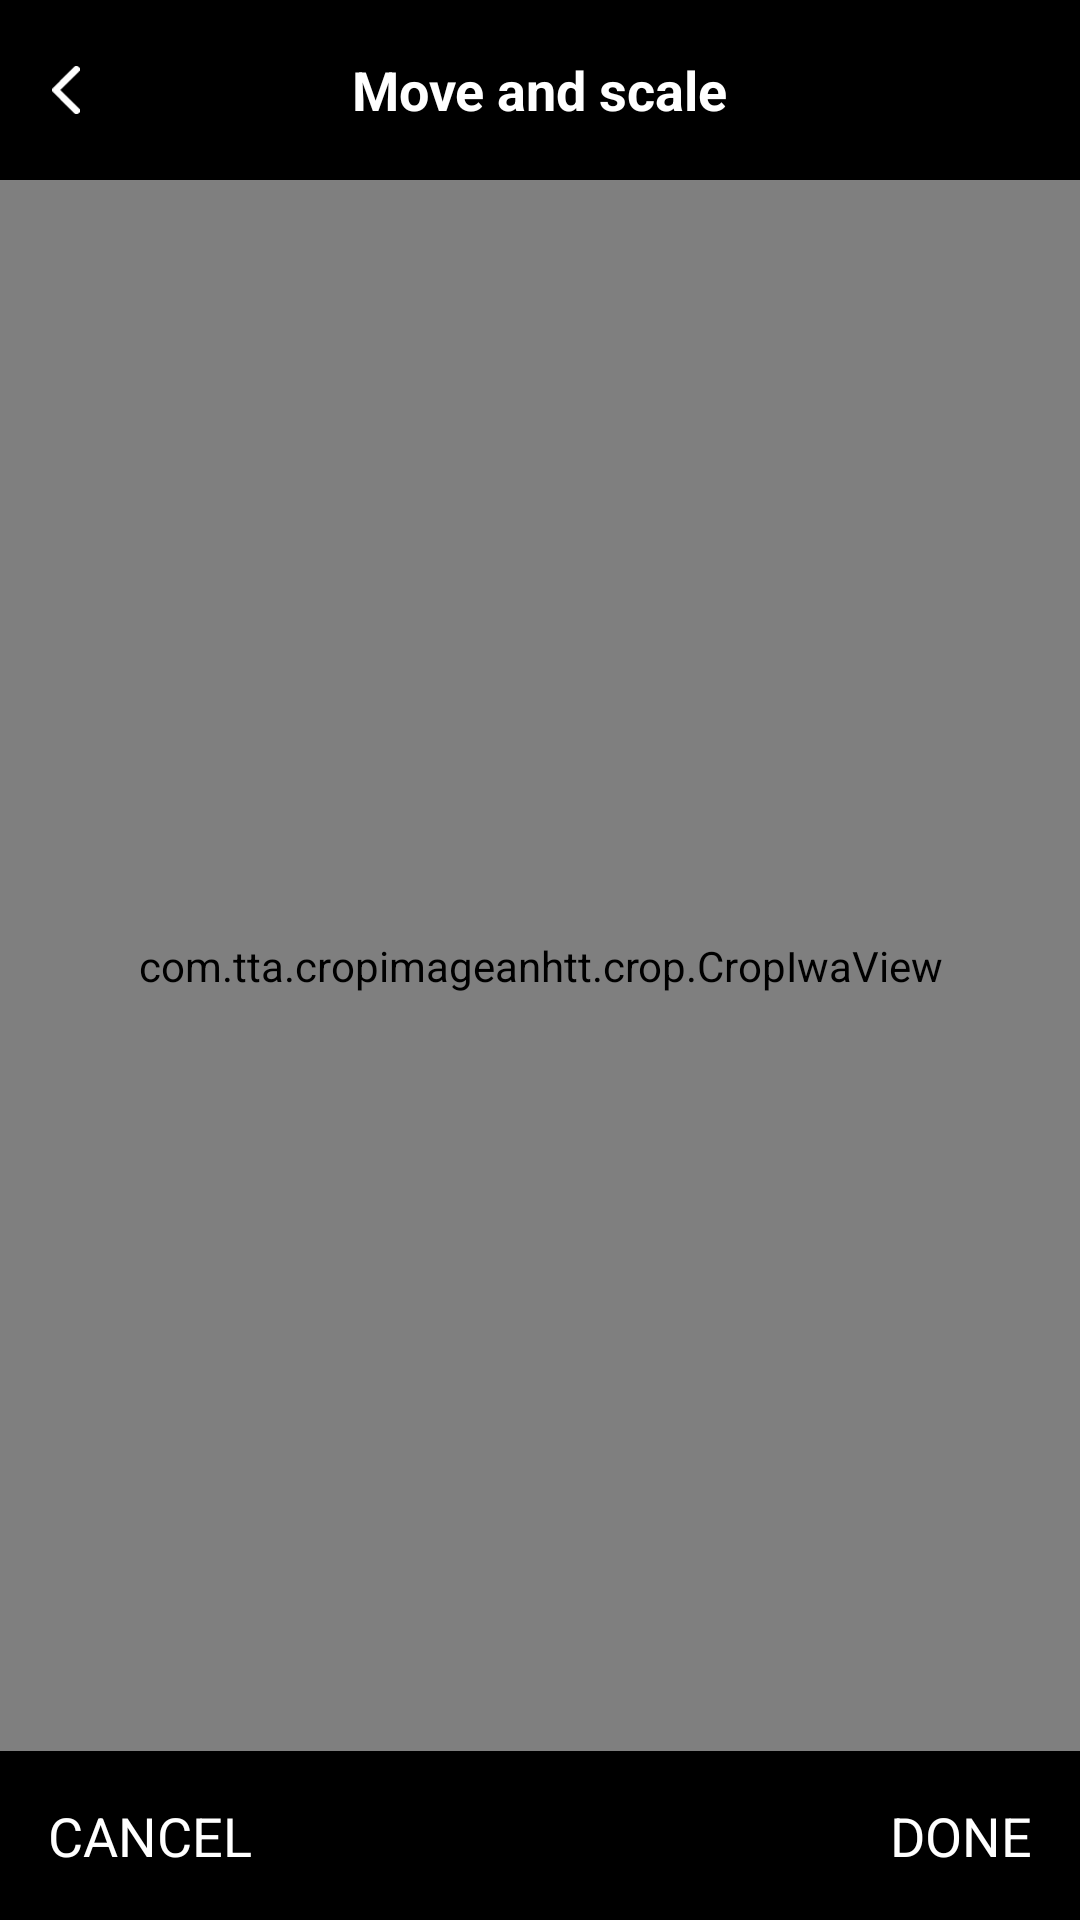

Icons on this 1080w x 1920h Android screen, each with its box as (x1, y1, x2, y2):
back: (52, 66, 80, 114)
